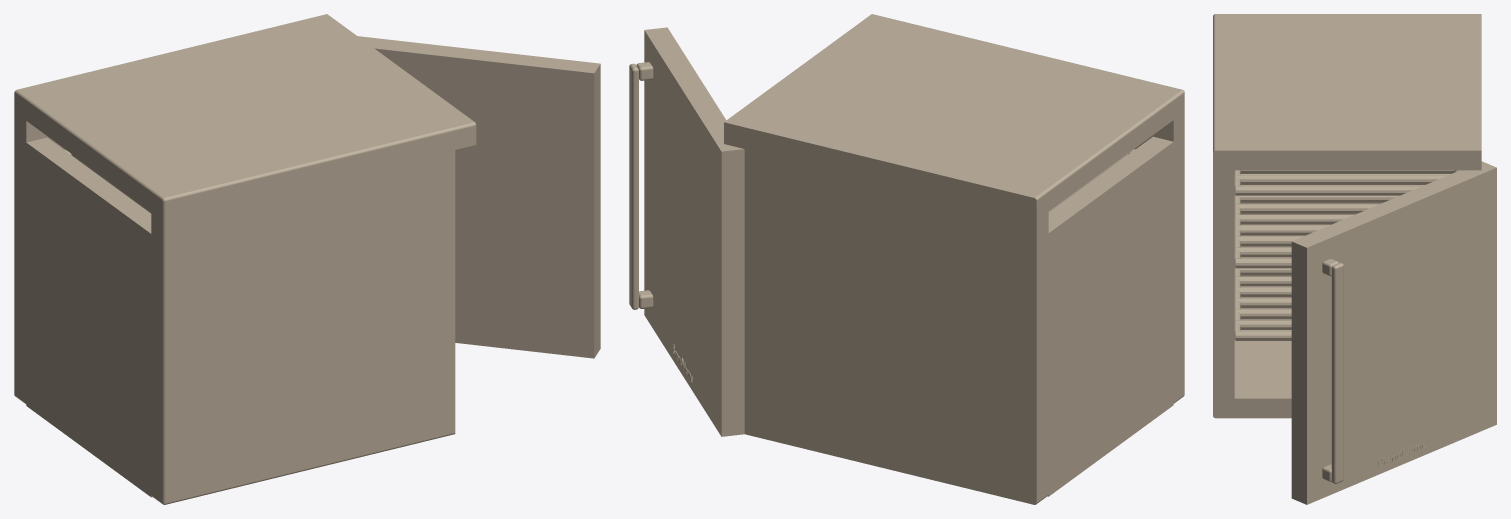
File: 3dcodebench_BeverageFridge_seed0_L1_Q2__qwen3.8-27b.glb
3 views of the same model, side by side, from view 1: azimuth 30°, elevation 25°; view 2: azimuth 150°, elevation 25°; view 3: azimuth 270°, elevation 25° (orthographic). The views are drawn at different scales.
Visible parts, largest first — view 1: object; view 2: object; view 3: object.
Boxes of the visible parts, left/top/right/bottom form: object: left=14, top=14, right=600, bottom=504; object: left=629, top=14, right=1184, bottom=504; object: left=1213, top=14, right=1496, bottom=504.
Size of the model in its own units: 1.97 by 1.18 by 1.1.
